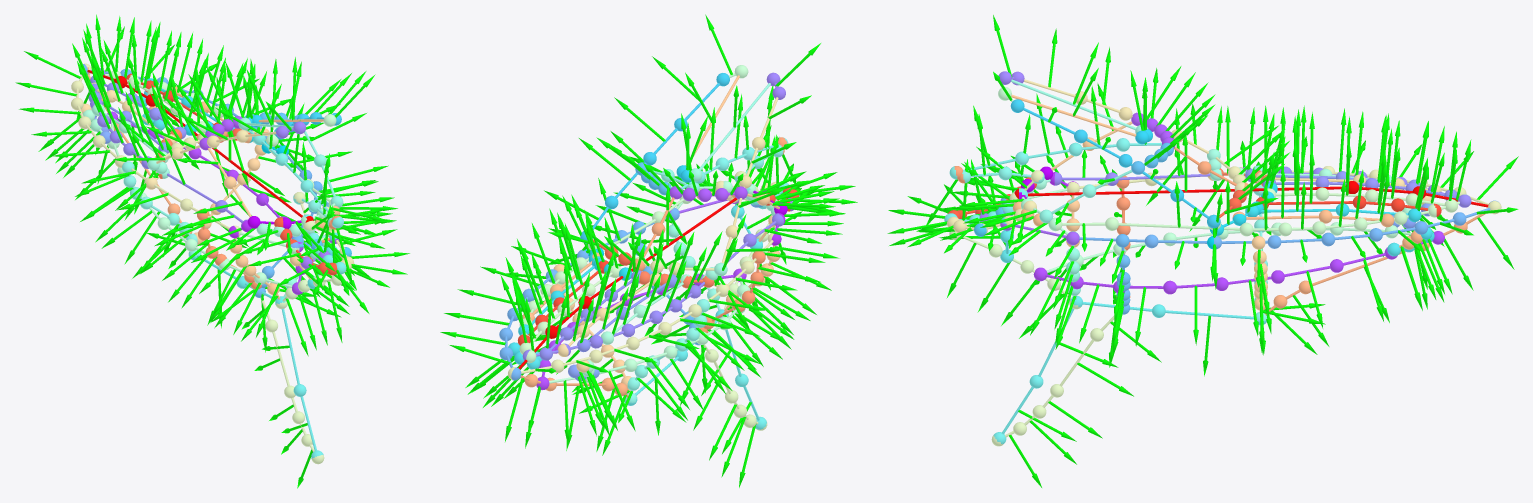
Rendered from ils_boat.gltf.
3 renders of one model, left to right at view 1: azimuth 30°, elevation 25°; view 2: azimuth 150°, elevation 25°; view 3: azimuth 270°, elevation 25°, orthographic. The views are drawn at different scales.
Size of the model in its own units: 0.4372 by 0.7142 by 0.9164.
